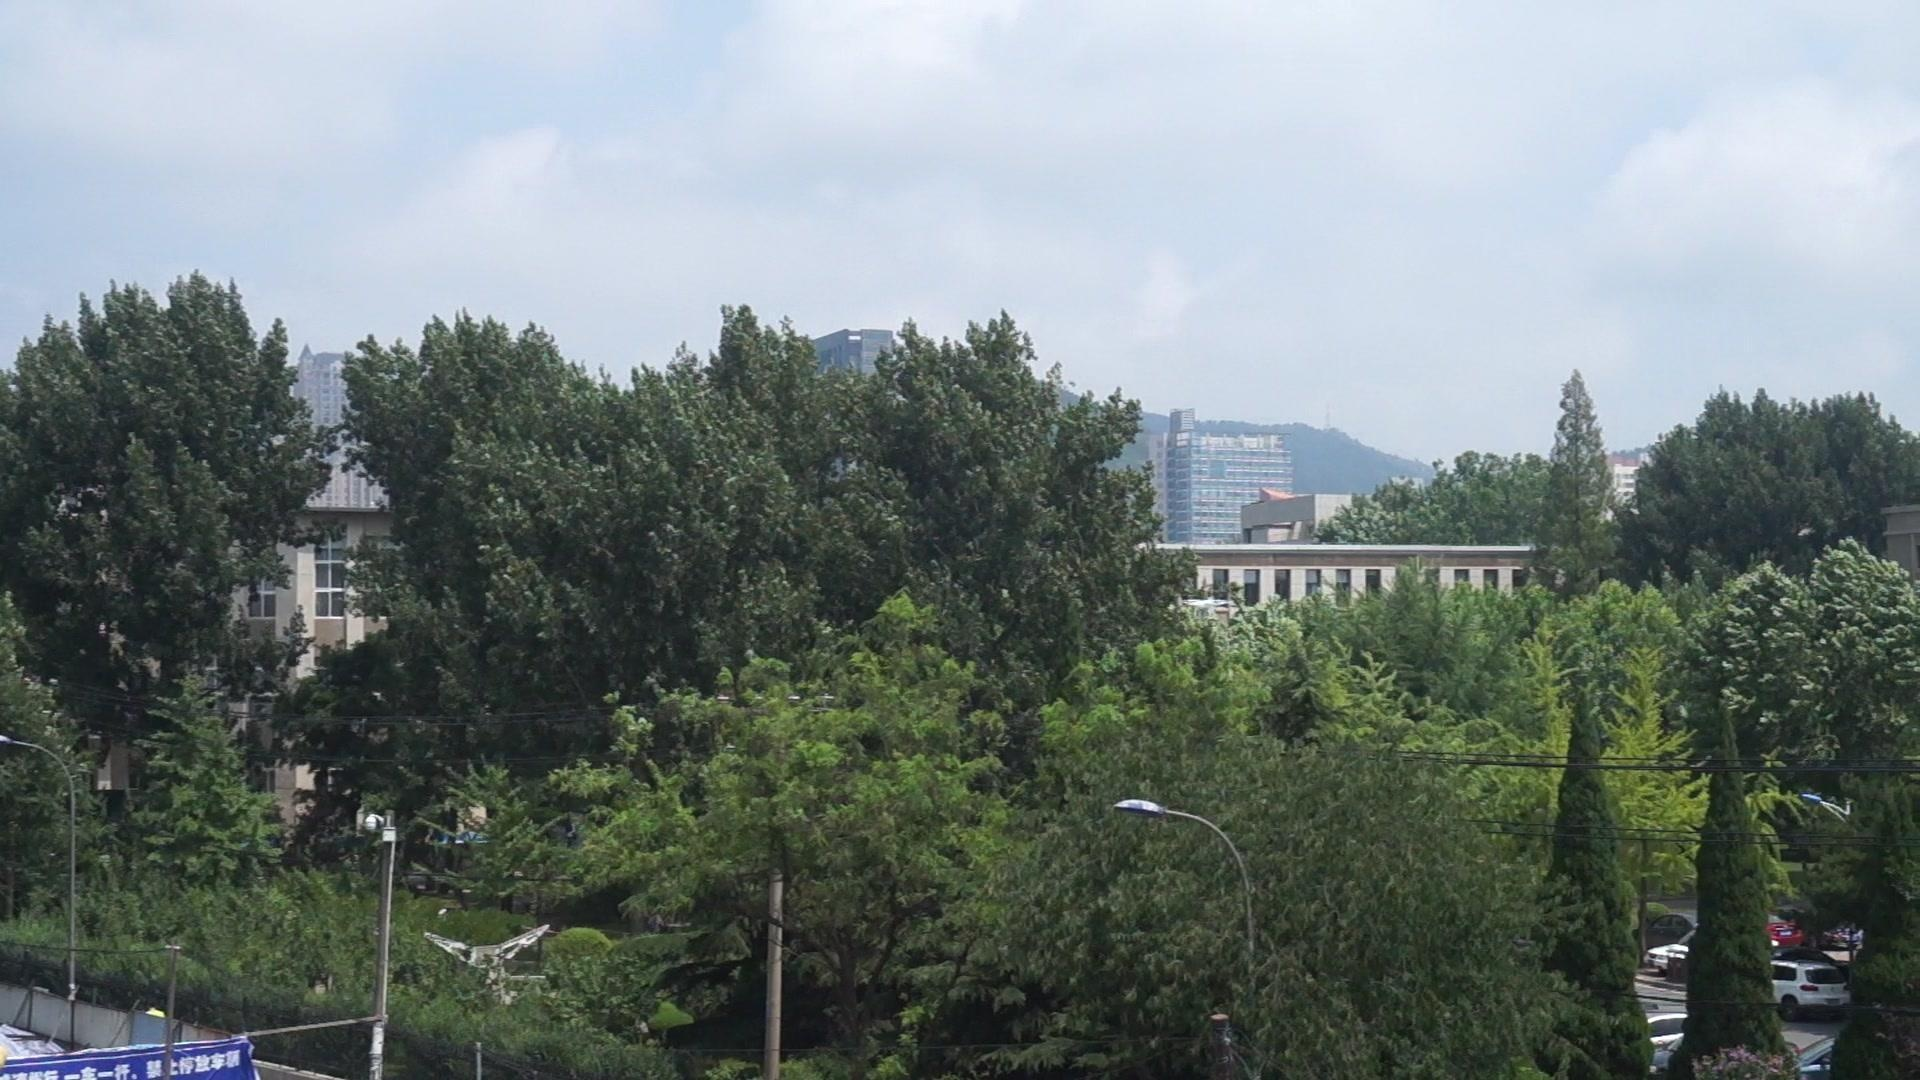UAV: (1185, 600, 1234, 615)
